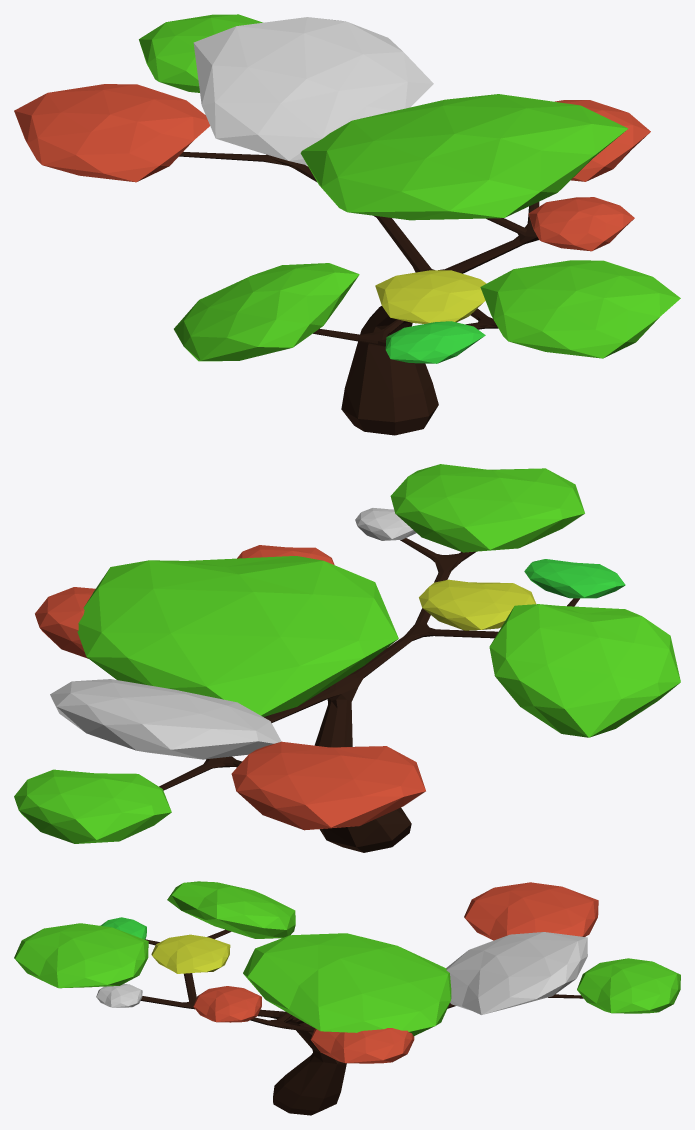
Rendered from tree2.obj.
The picture shows the model from 3 angles, top to bottom: view 1: azimuth 30°, elevation 25°; view 2: azimuth 150°, elevation 25°; view 3: azimuth 270°, elevation 25°; orthographic projection. The views are drawn at different scales.
Visible parts, largest first — view 1: Icosphere.004, Icosphere.001, Icosphere.005, Icosphere.002, Icosphere.008, arbre2_Cube.001, Icosphere.009, Icosphere, Icosphere.006, Icosphere.010, Icosphere.003; view 2: Icosphere.004, Icosphere.008, Icosphere.005, Icosphere.002, Icosphere.001, Icosphere, arbre2_Cube.001, Icosphere.009, Icosphere.010, Icosphere.003, Icosphere.007, Icosphere.006; view 3: Icosphere.004, Icosphere.001, Icosphere.005, Icosphere.002, arbre2_Cube.001, Icosphere.008, Icosphere, Icosphere.003, Icosphere.009, Icosphere.006, Icosphere.007, Icosphere.010.
Boxes of the visible parts, left/top/right/bottom form: Icosphere.004: left=300, top=94, right=628, bottom=220; Icosphere.001: left=193, top=17, right=433, bottom=165; Icosphere.005: left=480, top=260, right=680, bottom=358; Icosphere.002: left=14, top=84, right=209, bottom=182; Icosphere.008: left=174, top=263, right=359, bottom=361; arbre2_Cube.001: left=179, top=152, right=539, bottom=435; Icosphere.009: left=375, top=270, right=486, bottom=323; Icosphere: left=139, top=14, right=262, bottom=92; Icosphere.006: left=528, top=197, right=634, bottom=251; Icosphere.010: left=385, top=321, right=485, bottom=363; Icosphere.003: left=555, top=100, right=650, bottom=181; Icosphere.004: left=77, top=556, right=398, bottom=716; Icosphere.008: left=489, top=604, right=680, bottom=737; Icosphere.005: left=390, top=464, right=584, bottom=552; Icosphere.002: left=231, top=741, right=425, bottom=830; Icosphere.001: left=50, top=679, right=281, bottom=759; Icosphere: left=14, top=769, right=171, bottom=843; arbre2_Cube.001: left=159, top=538, right=579, bottom=852; Icosphere.009: left=419, top=579, right=536, bottom=630; Icosphere.010: left=524, top=559, right=625, bottom=598; Icosphere.003: left=35, top=587, right=95, bottom=658; Icosphere.007: left=355, top=508, right=416, bottom=540; Icosphere.006: left=237, top=545, right=334, bottom=564; Icosphere.004: left=243, top=933, right=451, bottom=1036; Icosphere.001: left=446, top=932, right=587, bottom=1014; Icosphere.005: left=14, top=923, right=148, bottom=988; Icosphere.002: left=464, top=882, right=598, bottom=940; arbre2_Cube.001: left=140, top=929, right=583, bottom=1115; Icosphere.008: left=167, top=881, right=295, bottom=938; Icosphere: left=577, top=958, right=680, bottom=1013; Icosphere.003: left=310, top=1028, right=414, bottom=1063; Icosphere.009: left=151, top=934, right=230, bottom=973; Icosphere.006: left=193, top=986, right=261, bottom=1022; Icosphere.007: left=96, top=983, right=142, bottom=1007; Icosphere.010: left=100, top=917, right=146, bottom=939.
Bounding box in the file's own units: 10.08 × 4.44 × 14.92.
